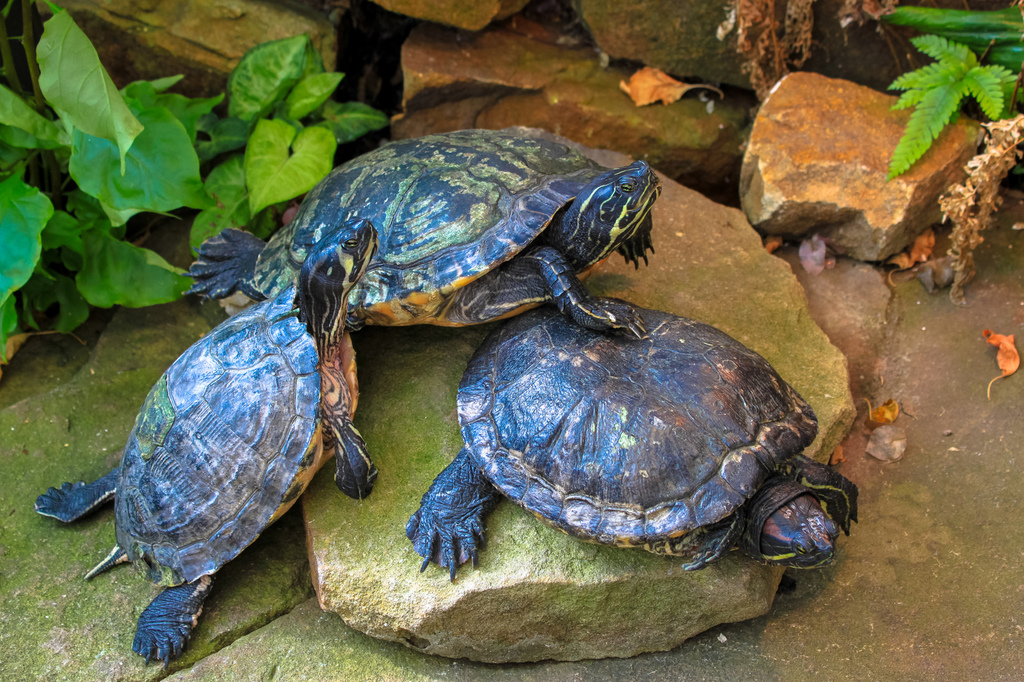Sea turtles: (31, 214, 379, 665), (403, 294, 860, 586), (180, 127, 664, 344)
